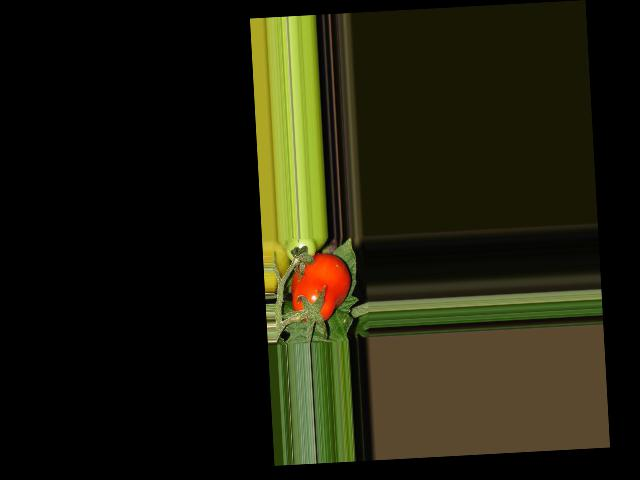tomato: (289, 252, 352, 324)
